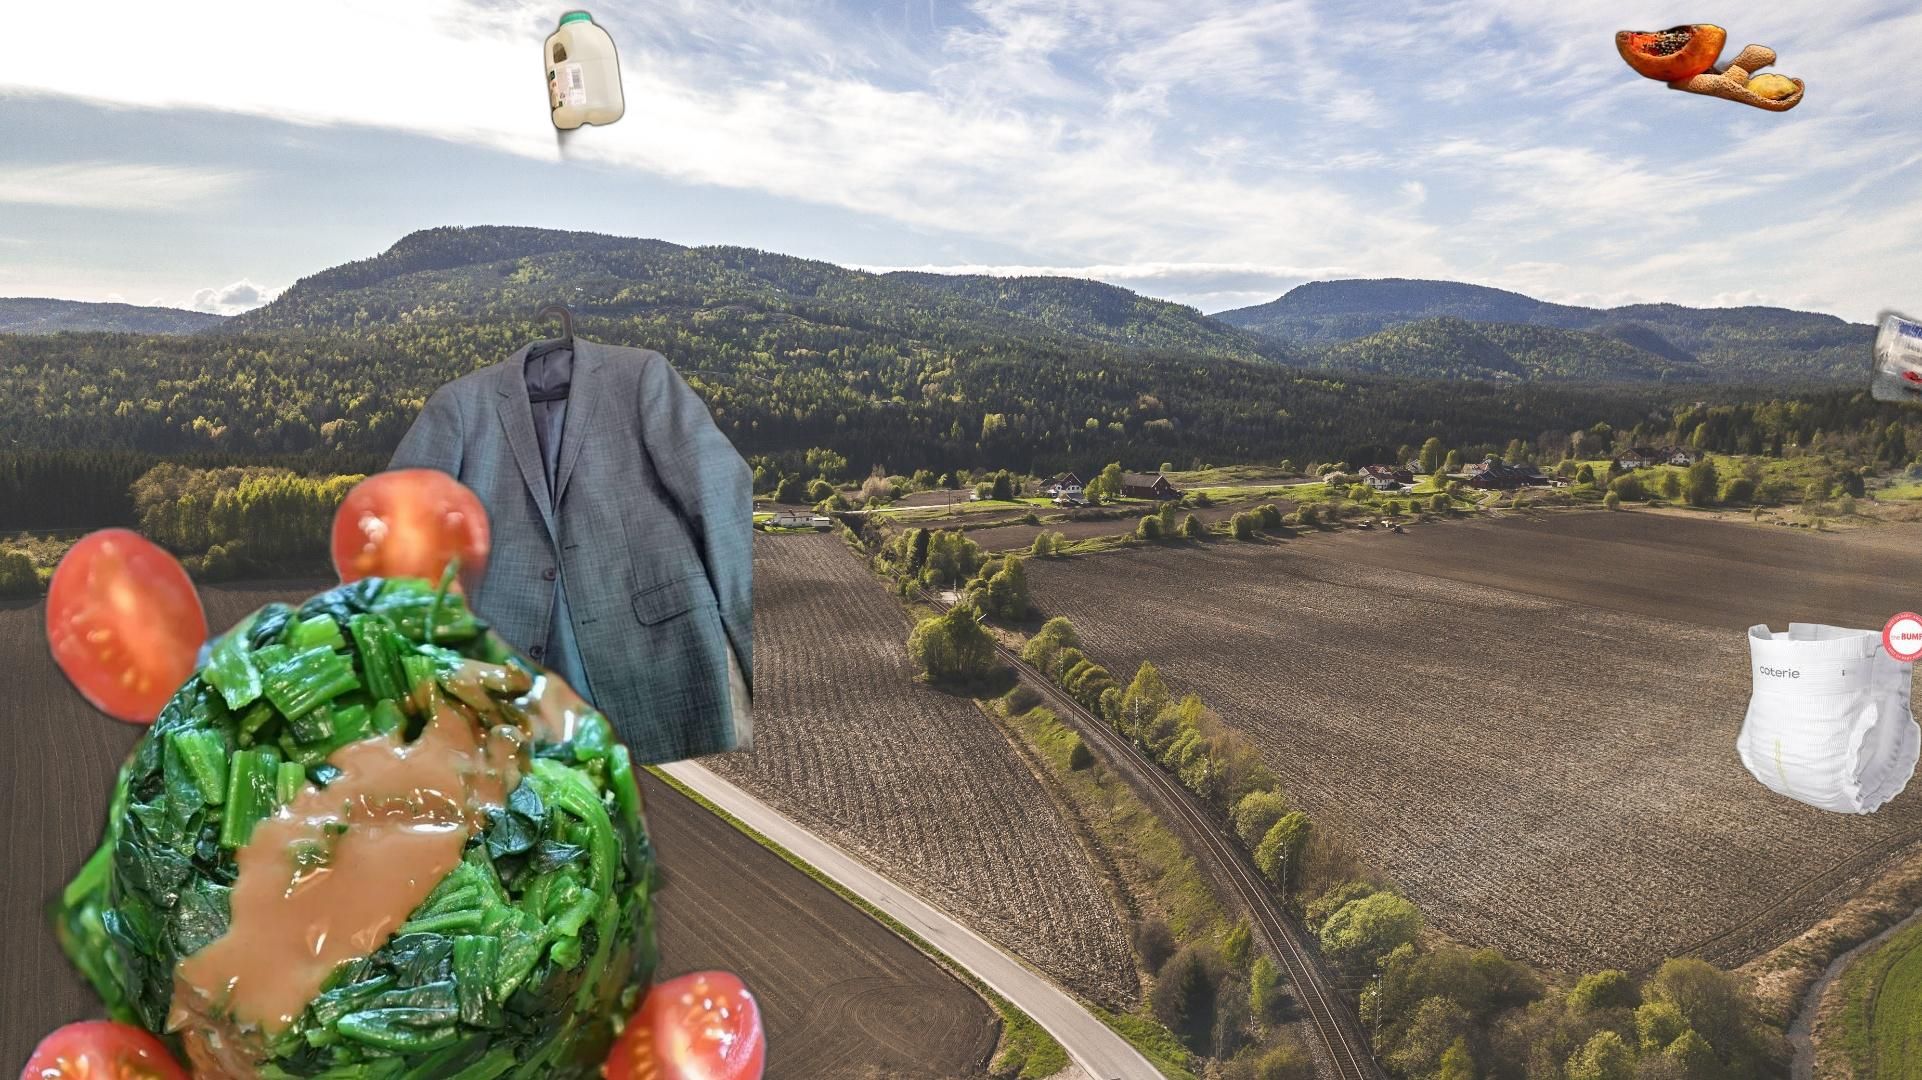battery: (243, 951, 547, 1080)
biological: (8, 456, 778, 1080), (1613, 21, 1807, 115)
clothes: (352, 301, 752, 799)
glass: (103, 869, 506, 999)
plastic-bottles: (540, 5, 628, 180), (1865, 300, 1922, 422)
trash: (1731, 609, 1922, 819)
